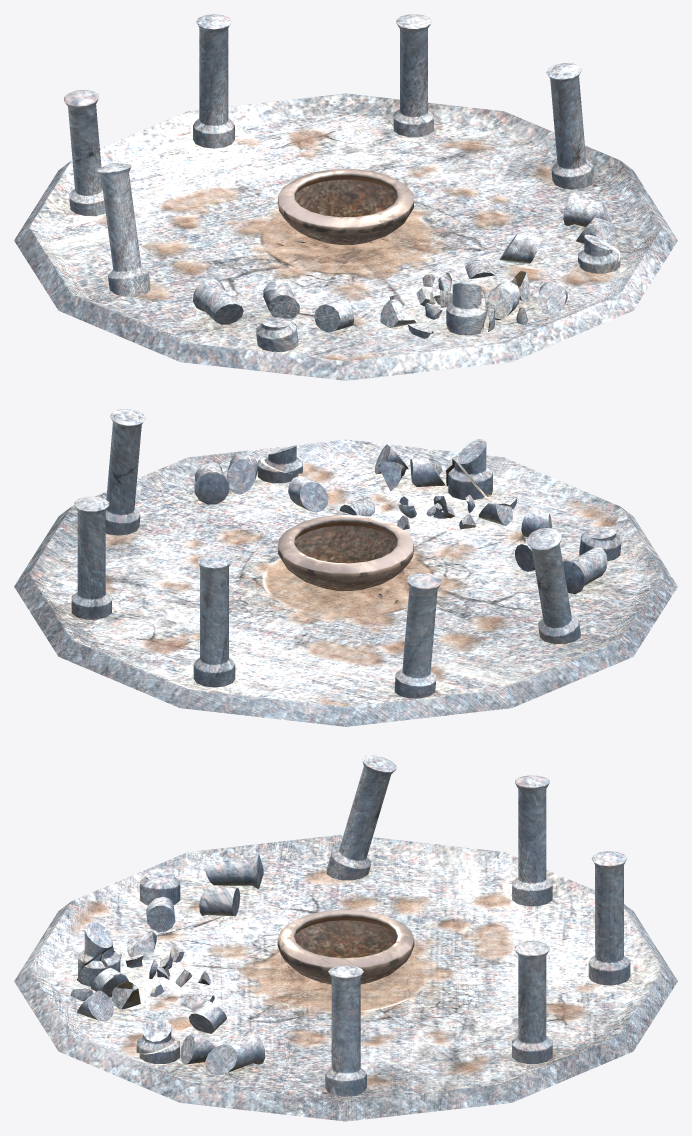
The picture shows the model from 3 angles, top to bottom: view 1: azimuth 30°, elevation 25°; view 2: azimuth 150°, elevation 25°; view 3: azimuth 270°, elevation 25°; orthographic projection.
Parts seen in each view (by area): view 1: start fire place__0; view 2: start fire place__0; view 3: start fire place__0.
Boxes of the visible parts, x1,y1,x2,y2 form: start fire place__0: [14, 14, 677, 380]; start fire place__0: [14, 409, 677, 726]; start fire place__0: [14, 755, 677, 1121].
Bounding box in the file's own units: 29.92 × 6.58 × 29.92.
Materials: 1 (1 with a texture image).
